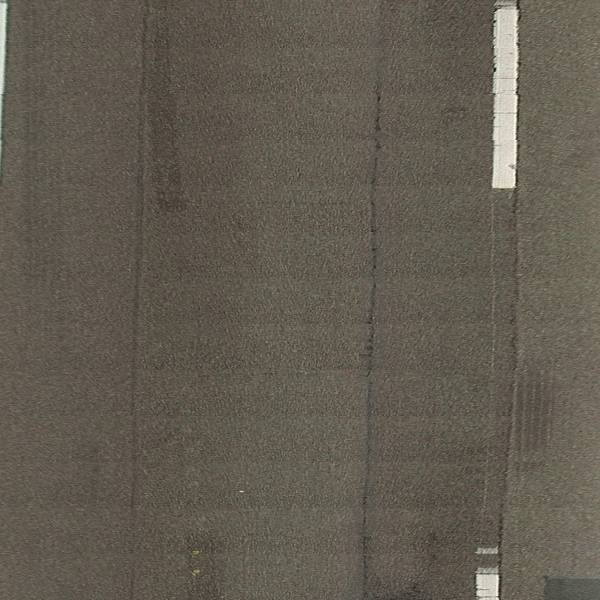road_damage: (363, 91, 384, 377), (510, 201, 528, 365), (356, 490, 375, 600)
